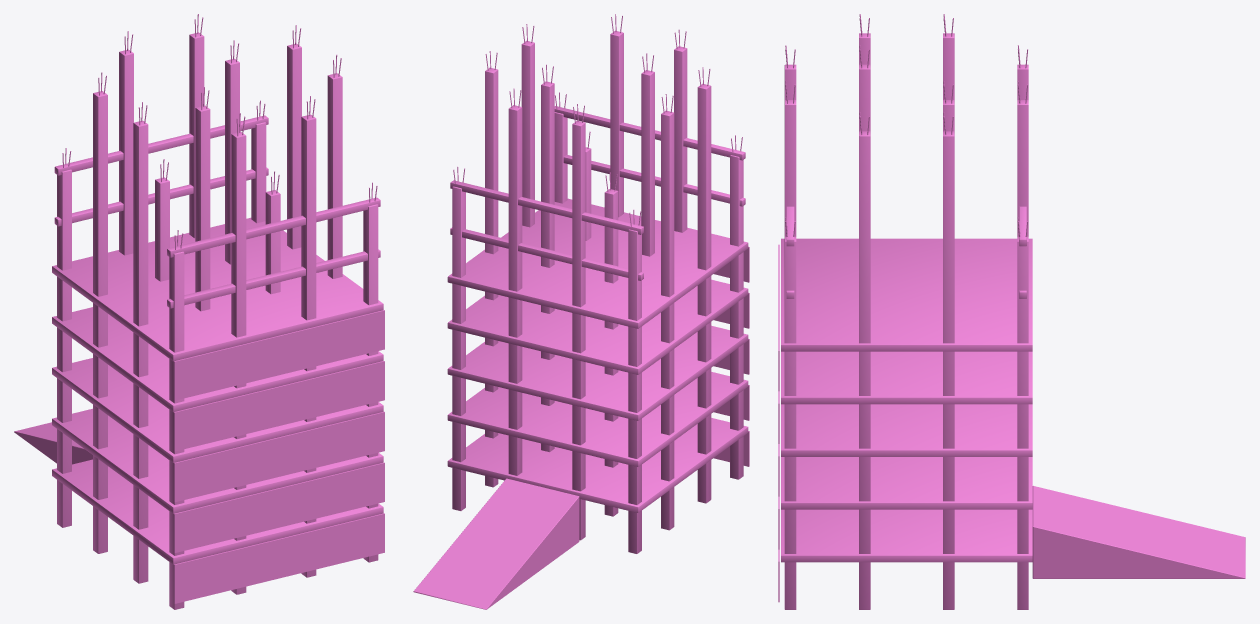
File: Site_Skeleton.fbx
The picture shows the model from 3 angles, left to right: view 1: azimuth 30°, elevation 25°; view 2: azimuth 150°, elevation 25°; view 3: azimuth 270°, elevation 25°; orthographic projection. The views are drawn at different scales.
Visible parts, largest first — view 1: Skeleton; view 2: Skeleton; view 3: Skeleton.
Part boxes in pixels (x1,y1,x2,y2): Skeleton: (14,14,384,609); Skeleton: (413,14,749,609); Skeleton: (778,14,1245,609).
Size of the model in its own units: 26 by 56.21 by 48.27.
1 material, 1 textured.
